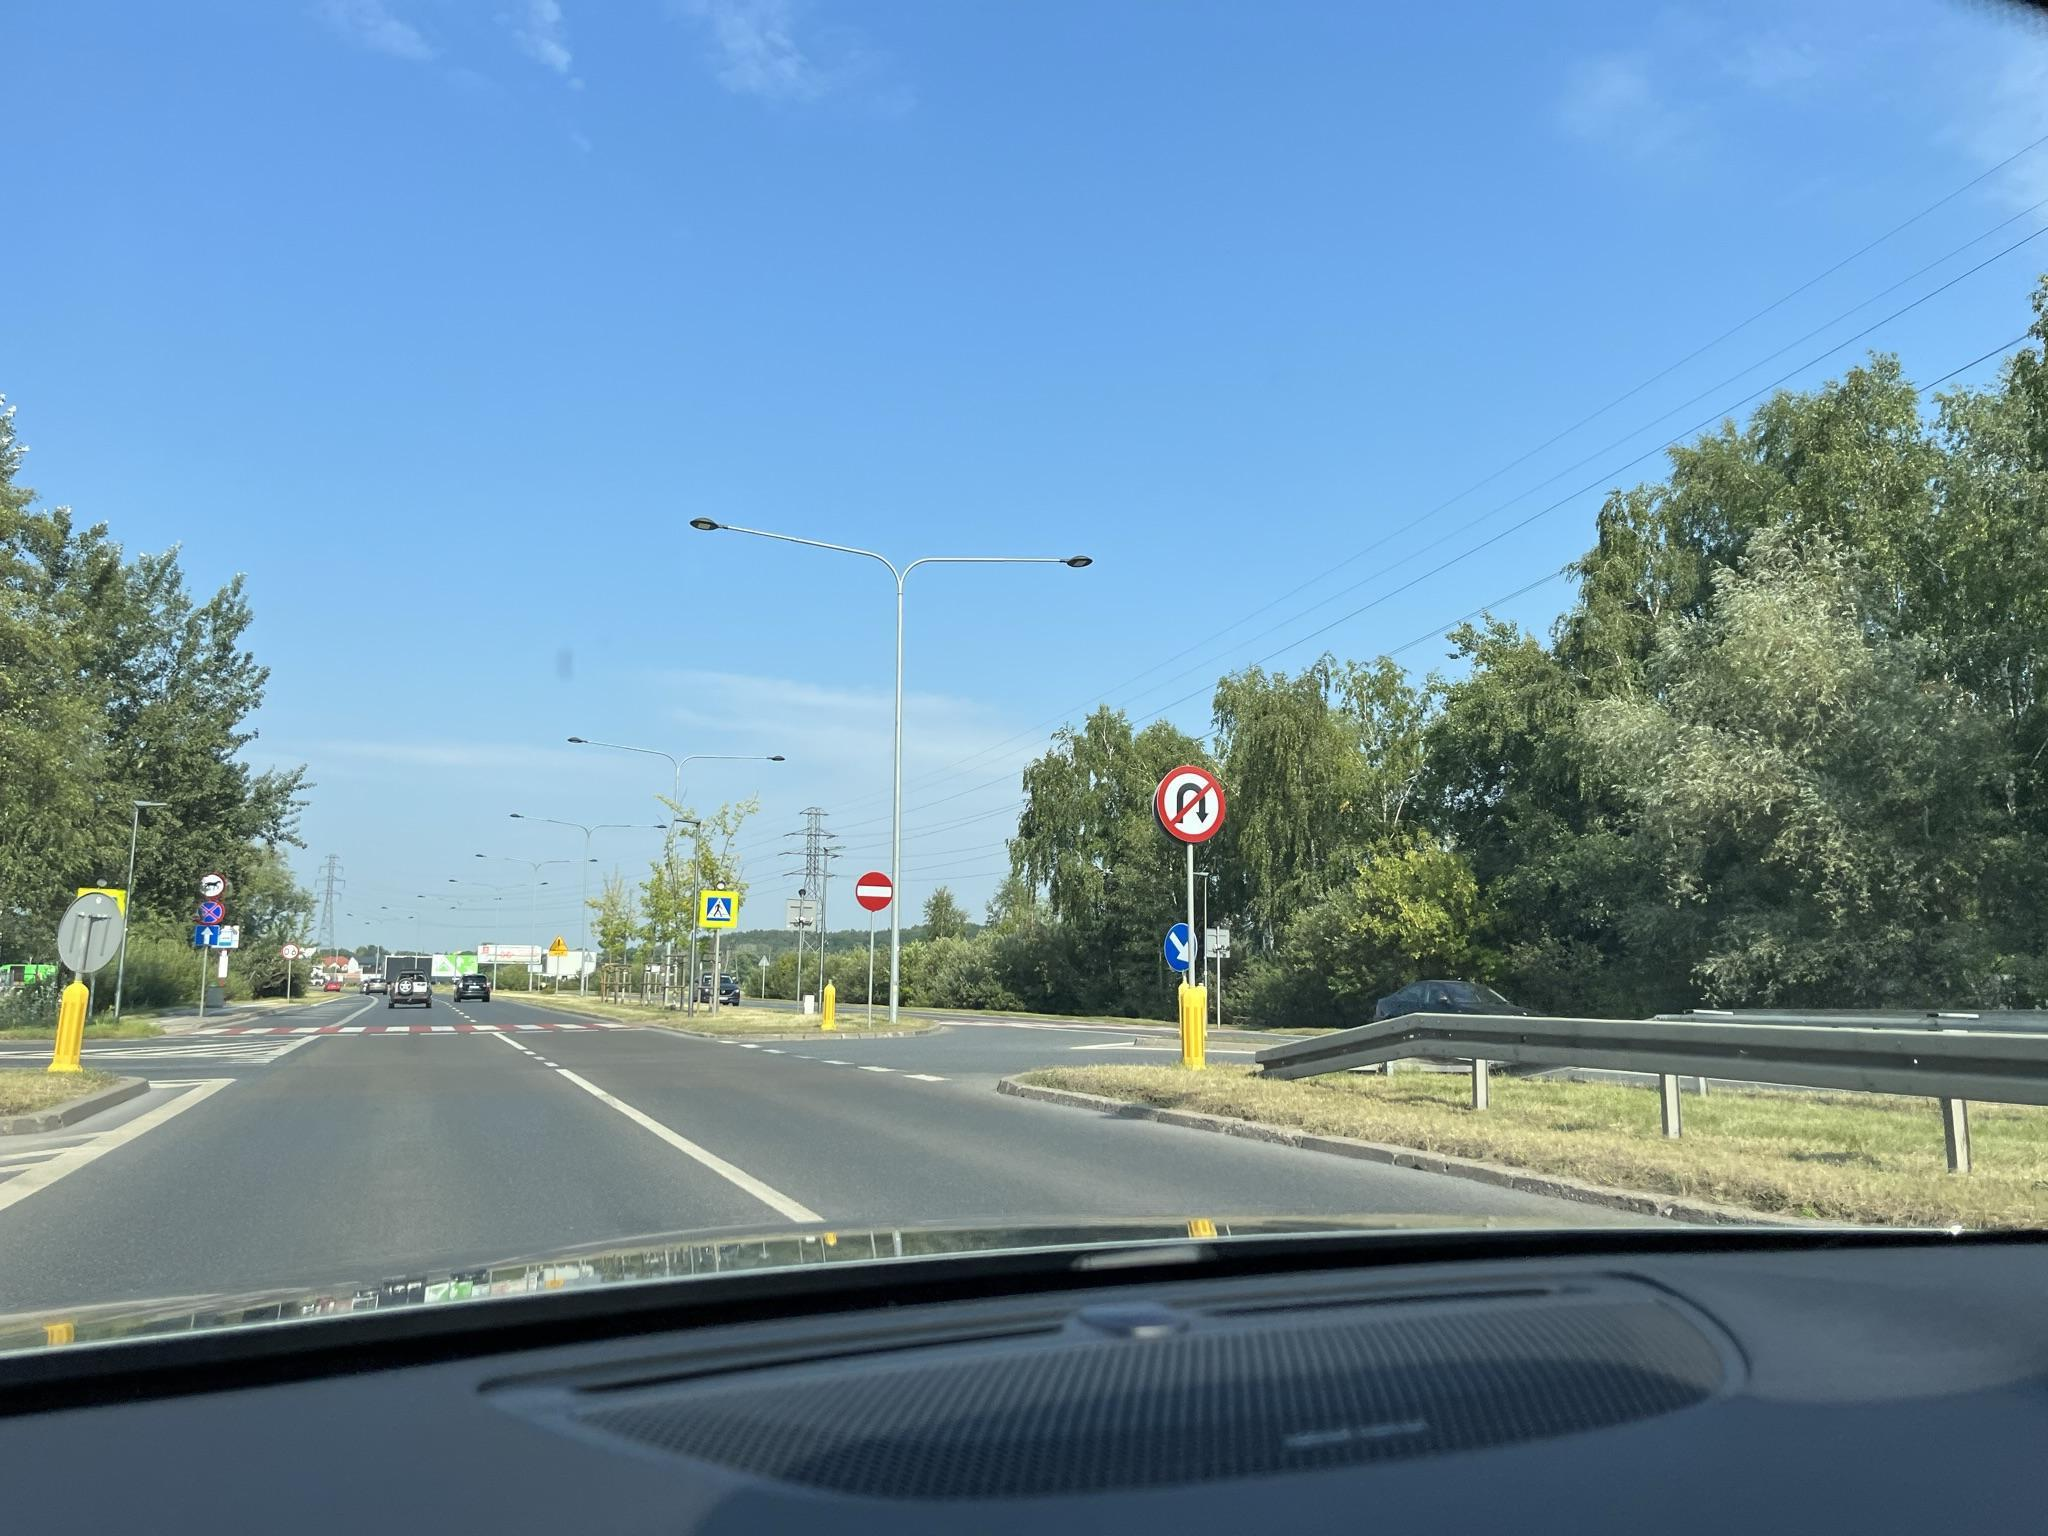information: (705, 895, 732, 921), (195, 925, 219, 947)
mandatory: (1164, 925, 1197, 971)
prohibitory: (1155, 765, 1227, 845), (853, 871, 893, 912), (195, 873, 226, 900), (194, 899, 226, 925), (281, 944, 298, 960)
warning: (550, 936, 568, 952)
